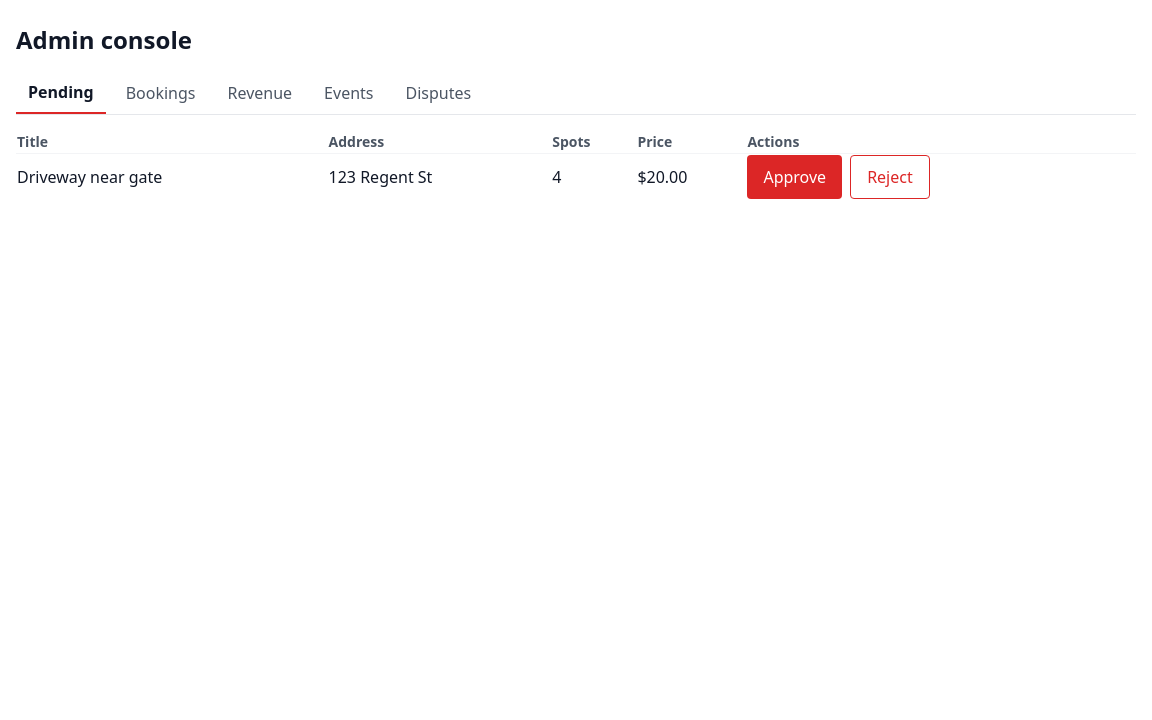
it: Admin console › reject button opens reason modal
This screenshot has width=1152, height=720.
Click the button with test id "reject-10" at point(890, 177), box left=850, top=155, right=930, bottom=199
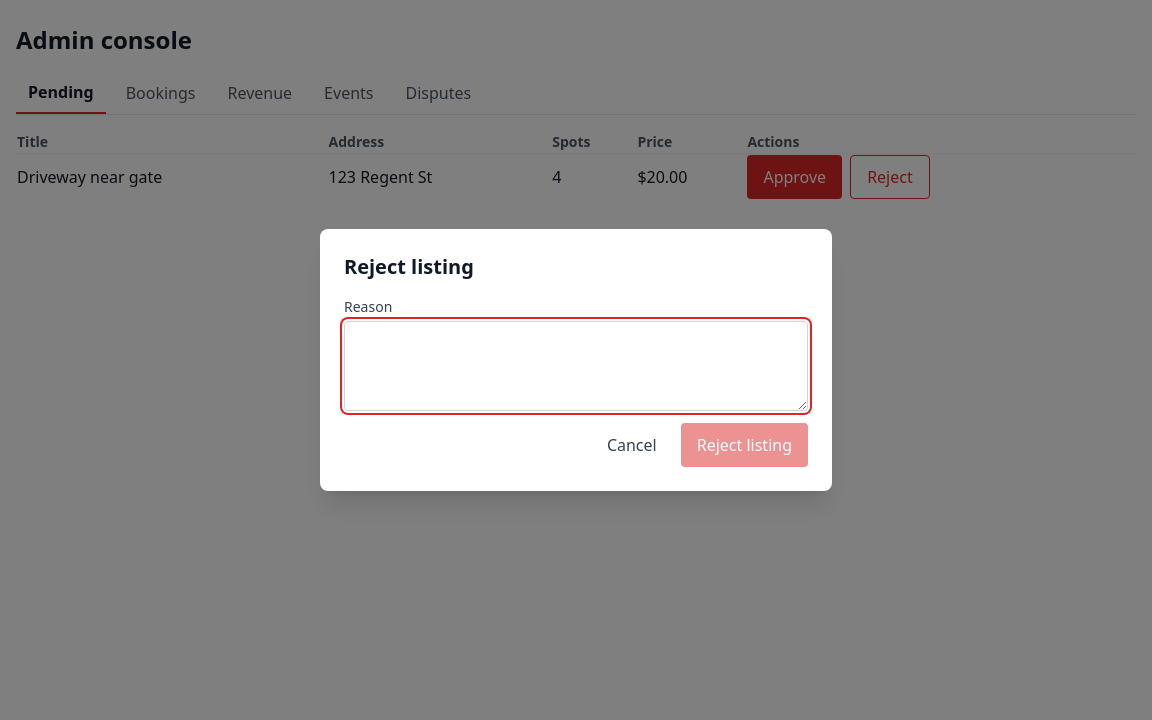
expect the dialog "Reject listing Reason Cancel Reject listing" is shown: met
